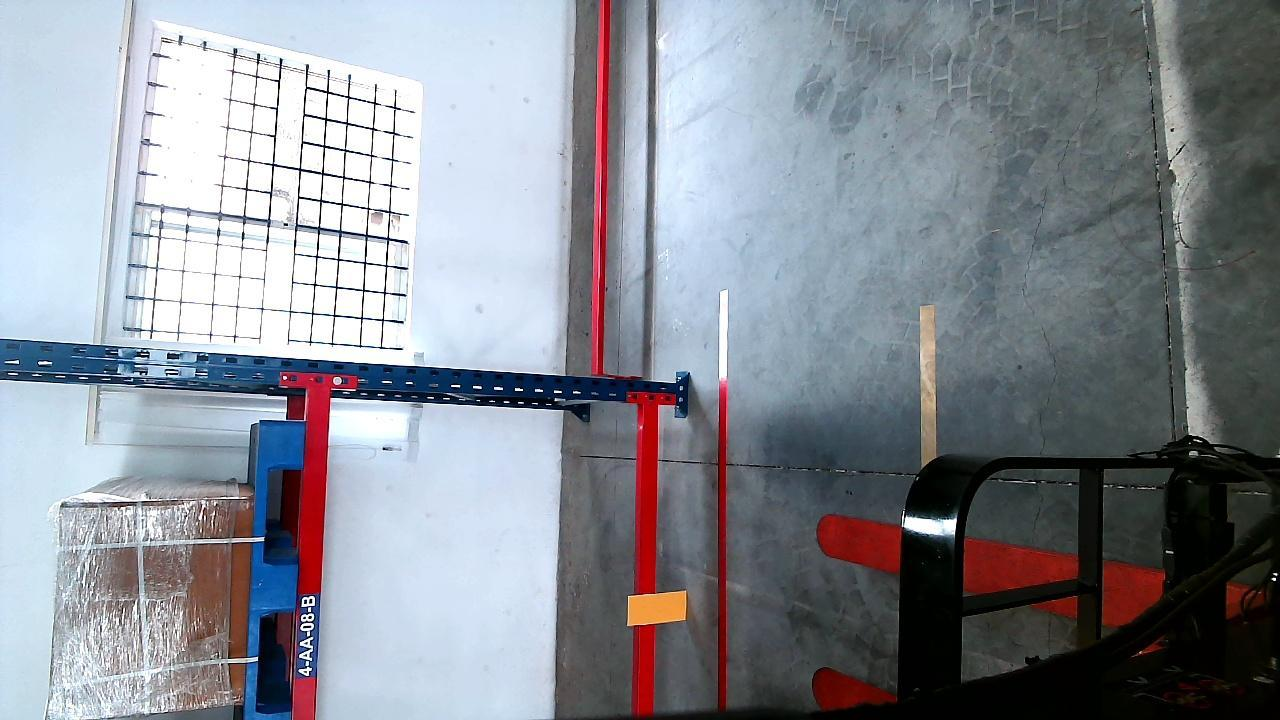red_line: (710, 290, 727, 711)
